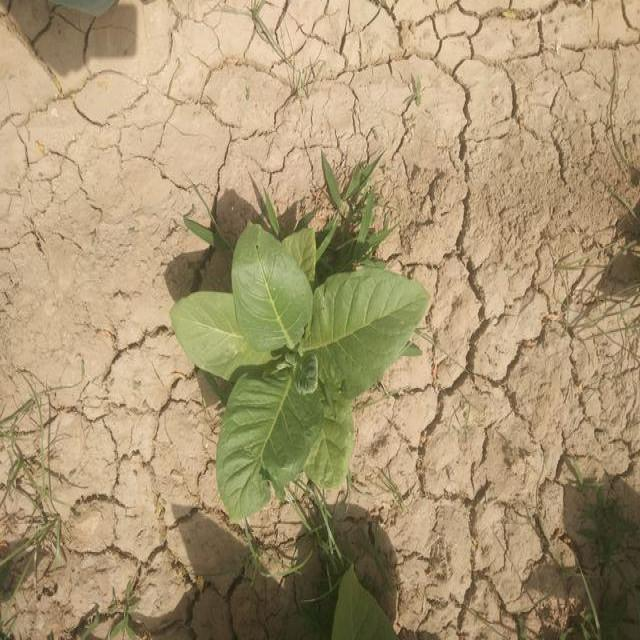crop: (178, 217, 445, 520)
